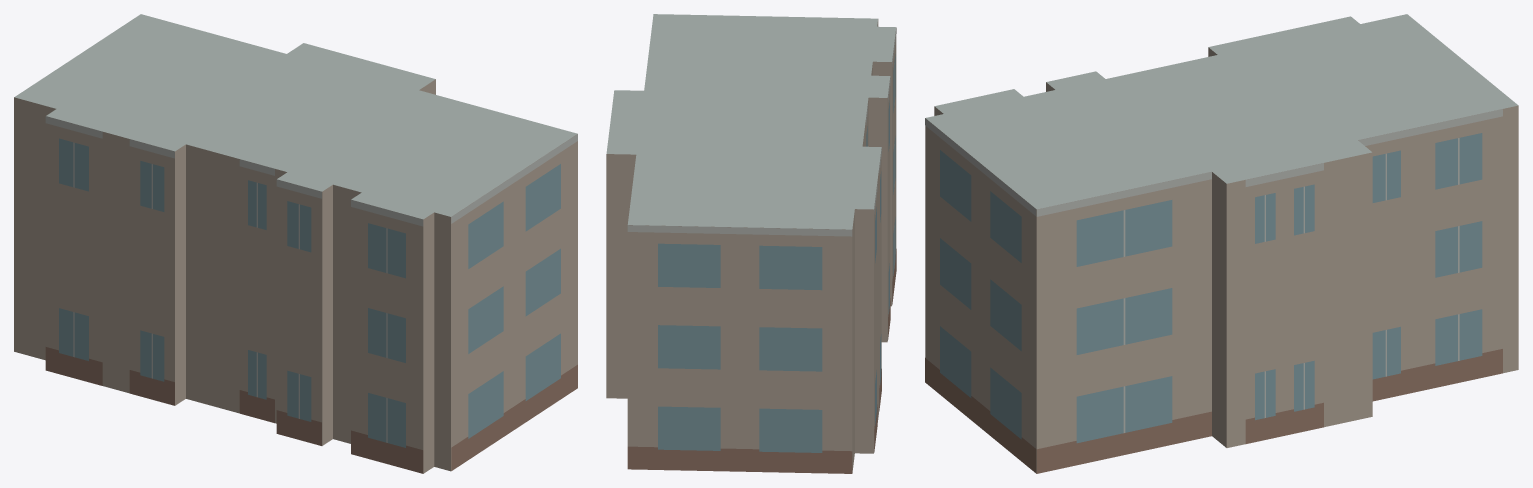
File: survey-upis-32741314.glb
3 views of the same model, side by side, from view 1: azimuth 30°, elevation 25°; view 2: azimuth 150°, elevation 25°; view 3: azimuth 270°, elevation 25° (orthographic). The views are drawn at different scales.
Visible parts, largest first — view 1: survey-upis-32741314.tmp; view 2: survey-upis-32741314.tmp; view 3: survey-upis-32741314.tmp.
Boxes of the visible parts, x1,y1,x2,y2 form: survey-upis-32741314.tmp: (14, 14, 577, 473); survey-upis-32741314.tmp: (606, 14, 896, 473); survey-upis-32741314.tmp: (925, 14, 1518, 473).
Bounding box in the file's own units: 13.64 × 8.6 × 17.5.
